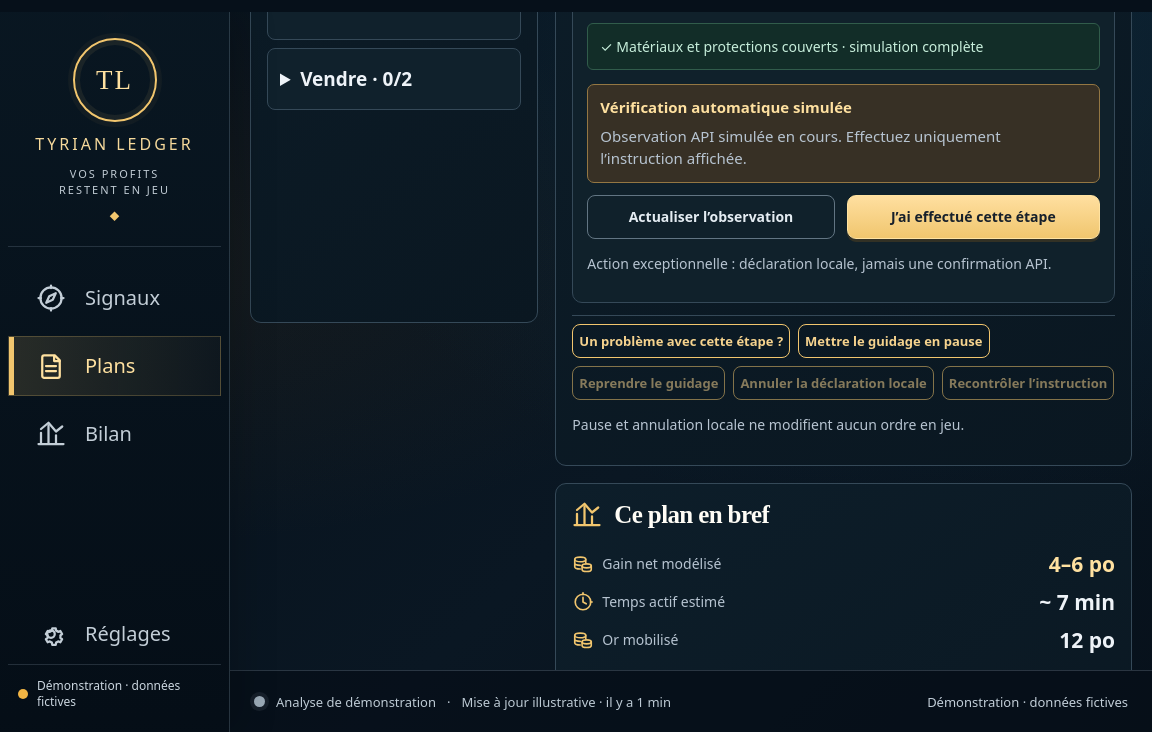
comparison and execution through the fixture provider › pauses guidance only, resumes the same instruction and undoes a provisional declaration
(page scrolled)
Click the button "Mettre le guidage en pause" at (894, 341), box [798, 324, 990, 358]
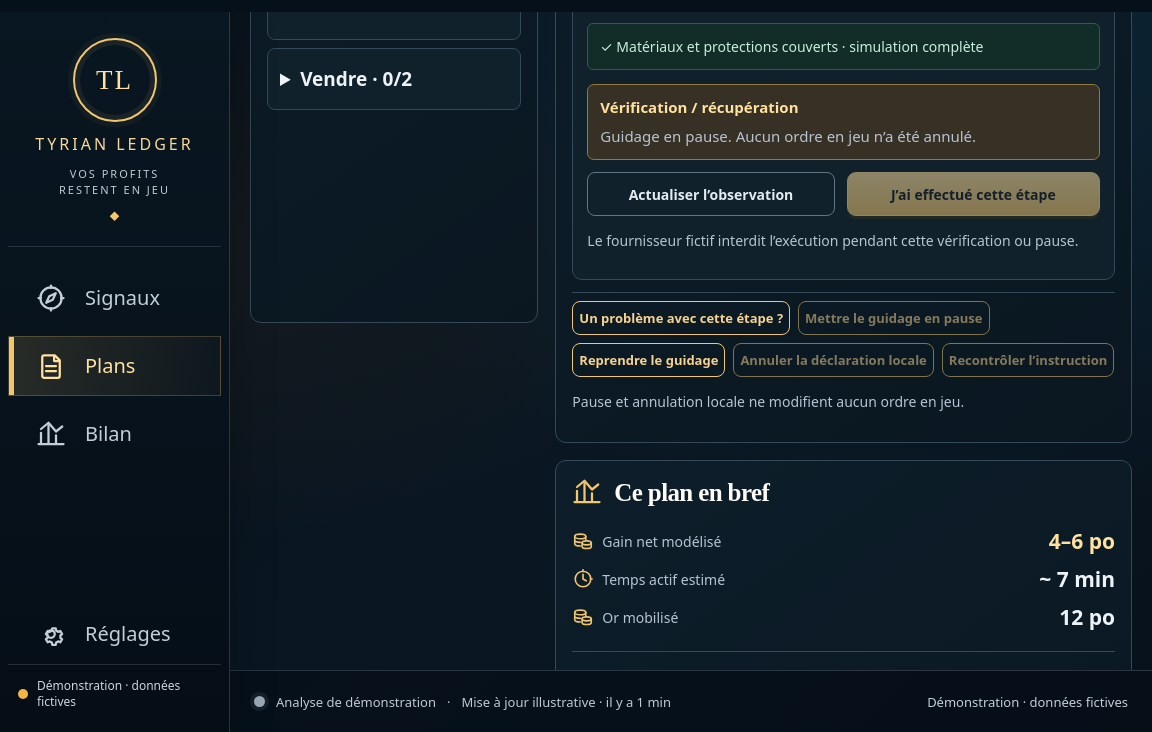
Result: the text "Guidage en pause. Aucun ordre en jeu n’a été annulé." is shown at [600, 126, 976, 146]
Result: the button "J’ai effectué cette étape" is disabled at [847, 172, 1100, 216]
Click the button "Reprendre le guidage" at (649, 360), box [572, 343, 725, 377]
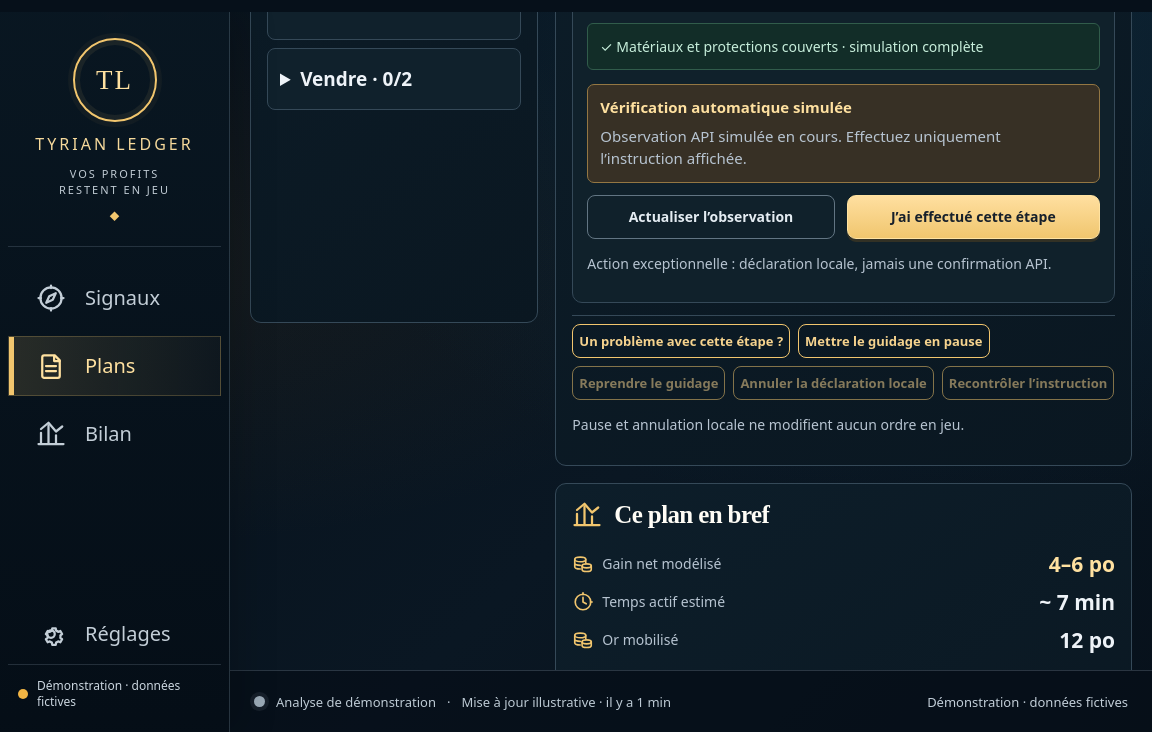
Result: the button "J’ai effectué cette étape" is enabled
Click the button "J’ai effectué cette étape" at (973, 217), box [847, 195, 1100, 239]
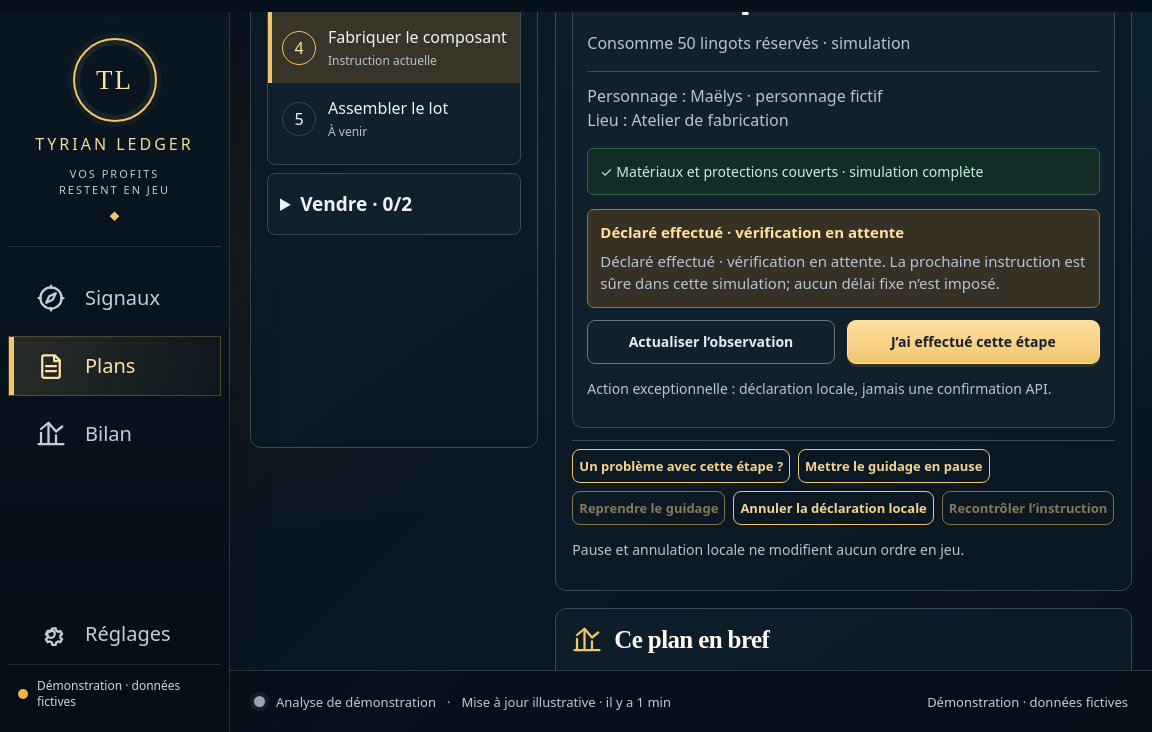
Click the button "Annuler la déclaration locale" at (834, 508), box [733, 491, 934, 525]
(page scrolled)
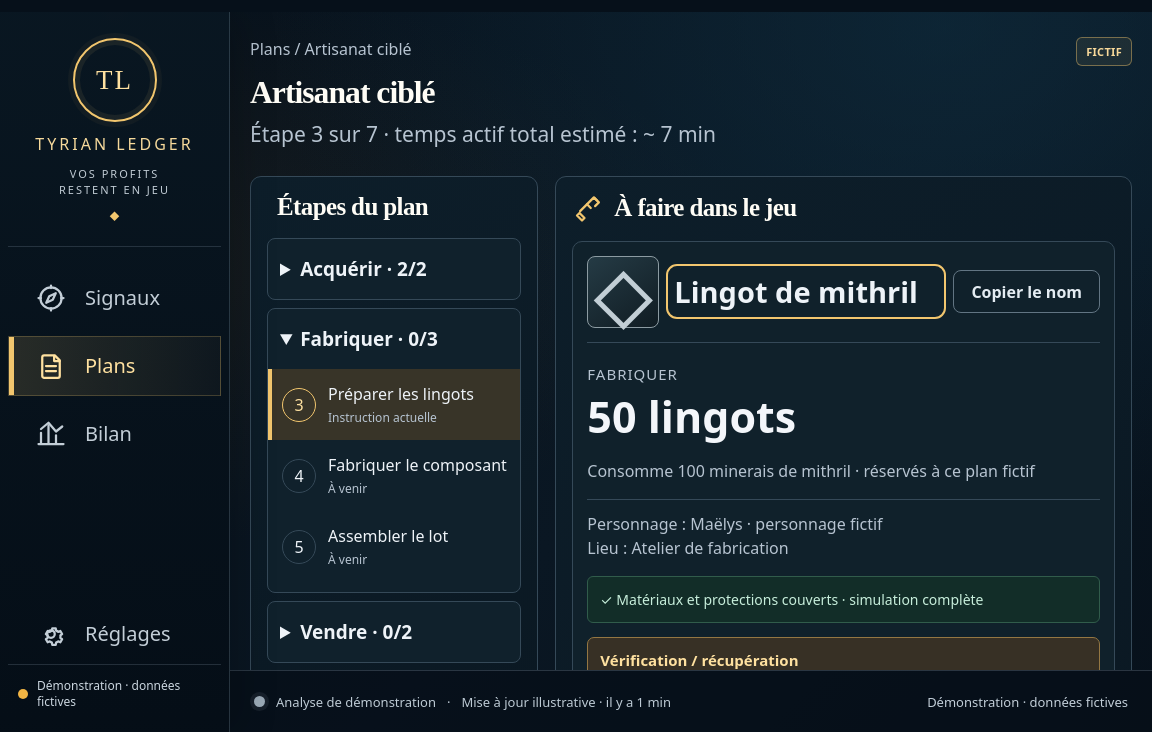
Result: the heading "Lingot de mithril" is shown at [674, 272, 938, 311]
